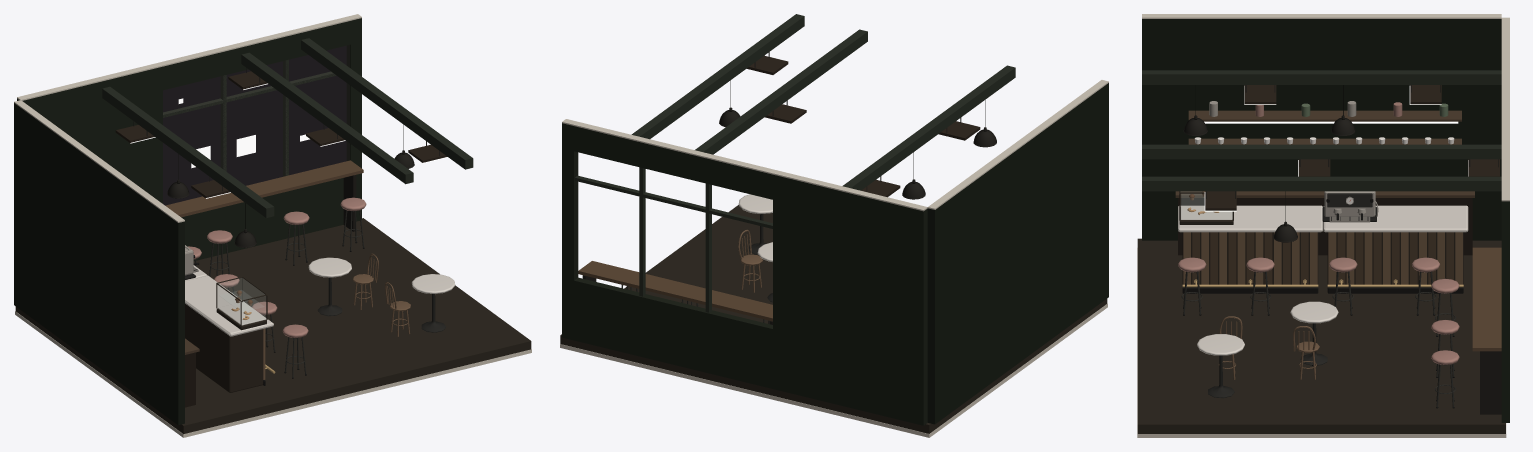
File: cafe-layout.glb
3 renders of one model, left to right at view 1: azimuth 30°, elevation 25°; view 2: azimuth 150°, elevation 25°; view 3: azimuth 270°, elevation 25°, orthographic. The views are drawn at different scales.
Visible parts, largest first — view 1: room, bar-section-00, bar-section-17, pastry-case-11, bistro-set-00 (×2), pastry-case-01; view 2: room, bistro-set-00; view 3: room, bar-section-17 (×2), bar-section-00 (×2), bistro-set-00 (×2), bar-section-16 (×2), bar-section-06 (×2), bar-section-18 (×2), bar-section-05 (×2), bar-section-07 (×2), bar-section-04 (×2), bar-section-15 (×2), bar-section-14 (×2) (+16 smaller).
Part boxes in pixels (x1=…): room: x1=14, y1=14, x2=531, y2=437; bar-section-00: x1=185, y1=304, x2=263, y2=392; bar-section-17: x1=185, y1=275, x2=273, y2=336; pastry-case-11: x1=218, y1=278, x2=265, y2=324; bistro-set-00 (×2): x1=308, y1=257, x2=455, y2=293; pastry-case-01: x1=218, y1=302, x2=265, y2=325; room: x1=560, y1=14, x2=1108, y2=437; bistro-set-00: x1=738, y1=194, x2=772, y2=213; room: x1=1137, y1=14, x2=1509, y2=437; bar-section-17 (×2): x1=1178, y1=205, x2=1468, y2=232; bar-section-00 (×2): x1=1182, y1=232, x2=1463, y2=287; bistro-set-00 (×2): x1=1197, y1=301, x2=1338, y2=355; bar-section-16 (×2): x1=1182, y1=287, x2=1463, y2=293; bar-section-06 (×2): x1=1228, y1=232, x2=1381, y2=284; bar-section-18 (×2): x1=1182, y1=284, x2=1463, y2=287; bar-section-05 (×2): x1=1219, y1=232, x2=1372, y2=284; bar-section-07 (×2): x1=1237, y1=232, x2=1390, y2=284; bar-section-04 (×2): x1=1210, y1=232, x2=1363, y2=284; bar-section-15 (×2): x1=1310, y1=232, x2=1462, y2=284; bar-section-14 (×2): x1=1301, y1=232, x2=1453, y2=284.
Size of the model in its own units: 6.19 by 3.62 by 5.31.
